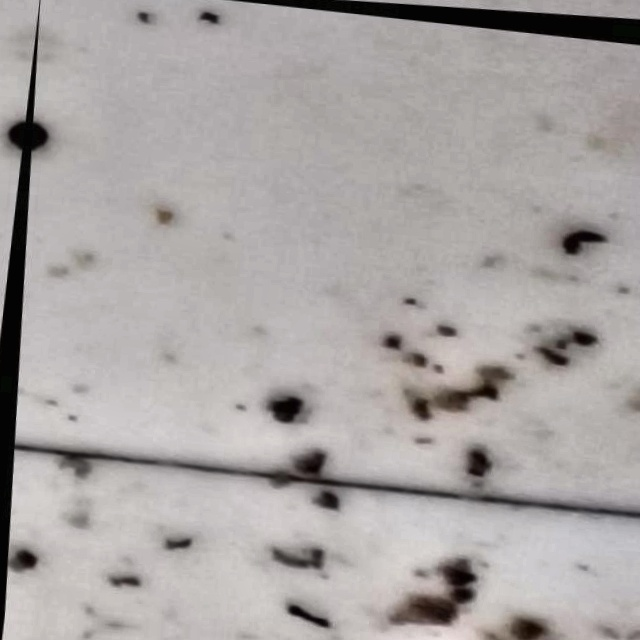varroa: (29, 119, 56, 161)
